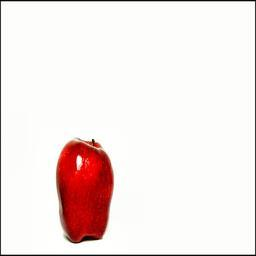apple: (56, 139, 114, 242)
